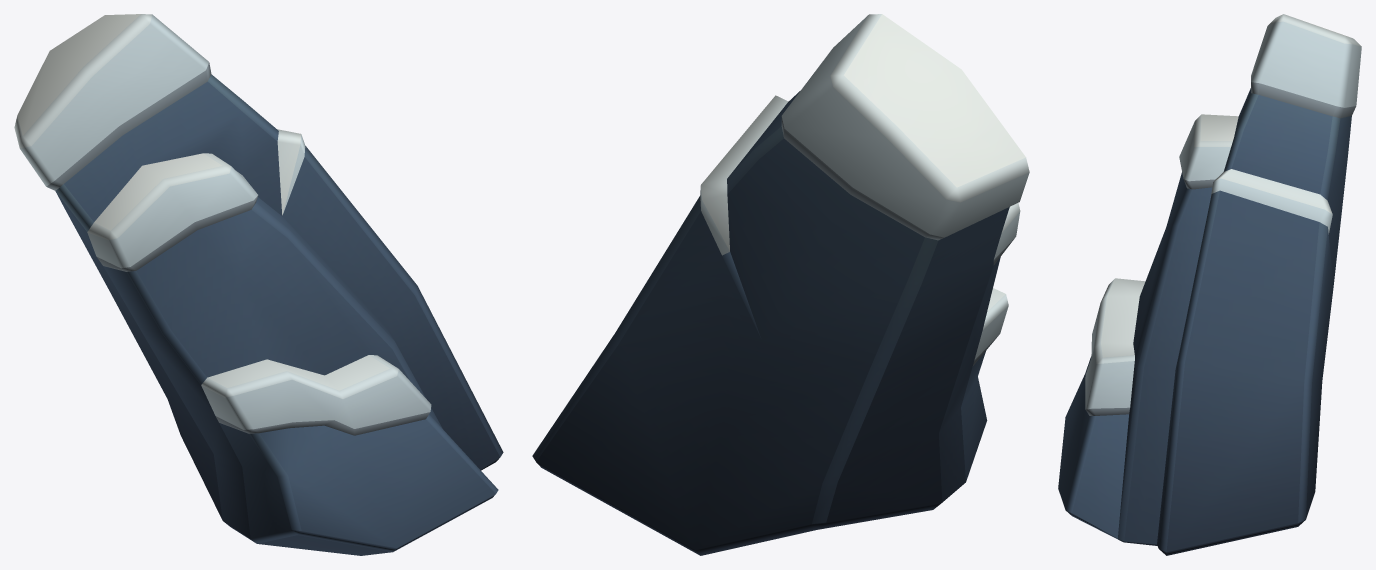
Rendered from rock_snow_021.fbx.
3 views of the same model, side by side, from view 1: azimuth 30°, elevation 25°; view 2: azimuth 150°, elevation 25°; view 3: azimuth 270°, elevation 25° (orthographic). The views are drawn at different scales.
Visible parts, largest first — view 1: rock_snow_021; view 2: rock_snow_021; view 3: rock_snow_021.
Boxes of the visible parts, x1=… form: rock_snow_021: x1=14, y1=14, x2=503, y2=555; rock_snow_021: x1=532, y1=14, x2=1029, y2=555; rock_snow_021: x1=1058, y1=14, x2=1361, y2=555.
Size of the model in its own units: 436 by 504 by 309.
